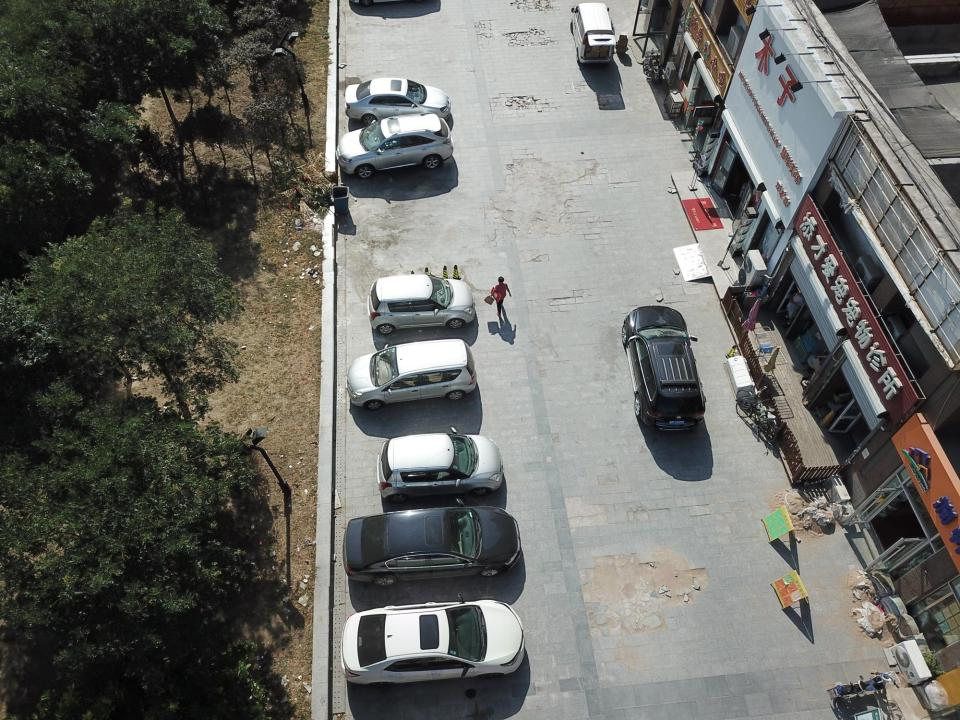car: (339, 592, 525, 686), (342, 497, 521, 587), (620, 304, 707, 430), (375, 425, 505, 502), (344, 339, 478, 411), (335, 114, 454, 180), (367, 274, 476, 334), (344, 77, 450, 126)
van: (570, 3, 617, 66)
